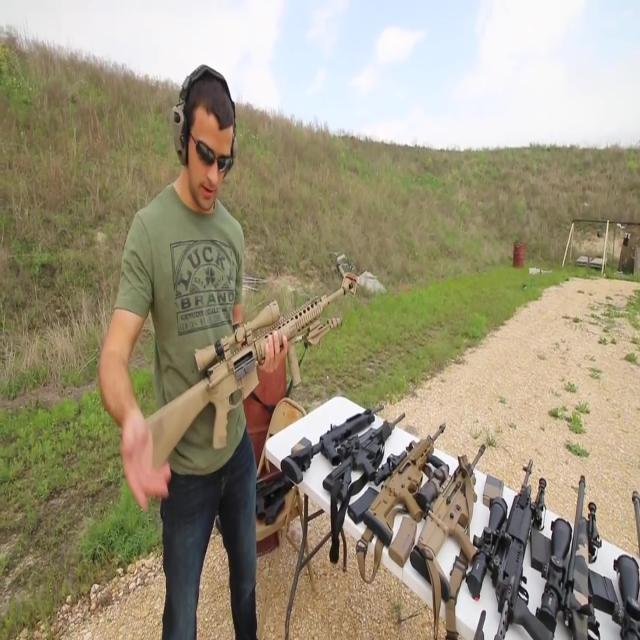Weapon: (241, 311, 640, 639), (91, 268, 369, 502)
